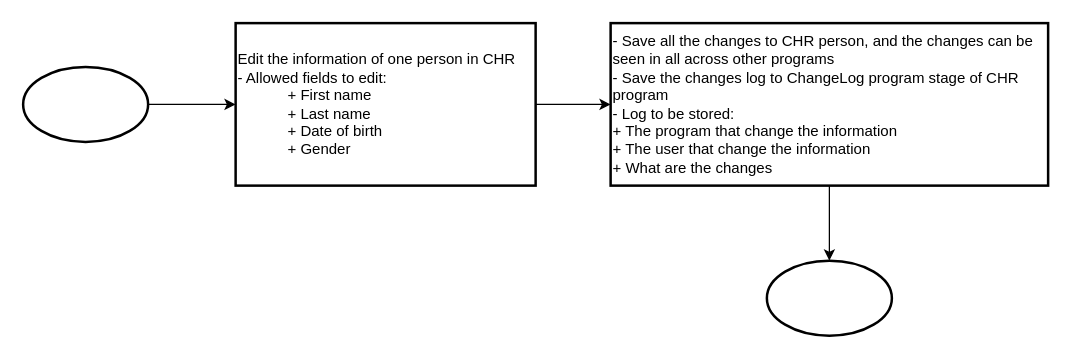
This 1070x358 diagram has some shape labels left out. The shapes that lost their labels are listed below. From the top down, each one's centre as x and y in pixels, then its label:
At [85,103]: "START".
At [828,297]: "END".
